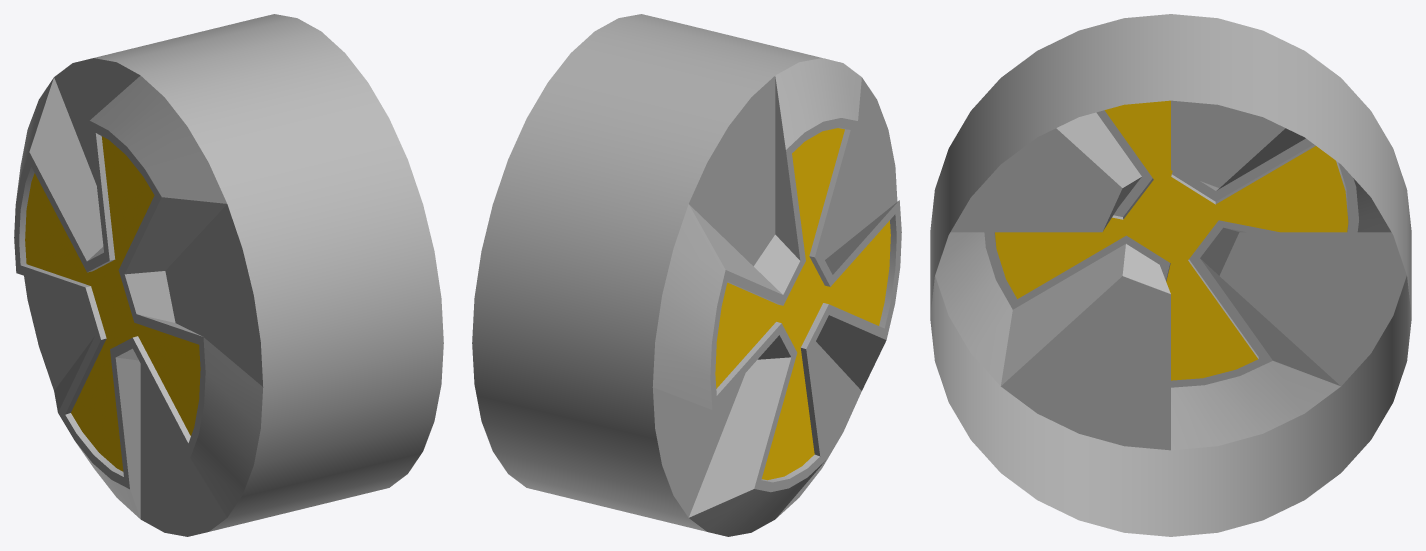
Rendered from OffRoad Right Wheel .fbx.
The picture shows the model from 3 angles, left to right: view 1: azimuth 30°, elevation 25°; view 2: azimuth 150°, elevation 25°; view 3: azimuth 270°, elevation 25°; orthographic projection.
Visible parts, largest first — view 1: OffRoad Right Wheel; view 2: OffRoad Right Wheel; view 3: OffRoad Right Wheel.
Boxes of the visible parts, <box> form: OffRoad Right Wheel: <box>14,14,443,536</box>; OffRoad Right Wheel: <box>472,14,901,536</box>; OffRoad Right Wheel: <box>930,14,1411,536</box>.
Size of the model in its own units: 0.3315 by 0.6652 by 0.6652.
